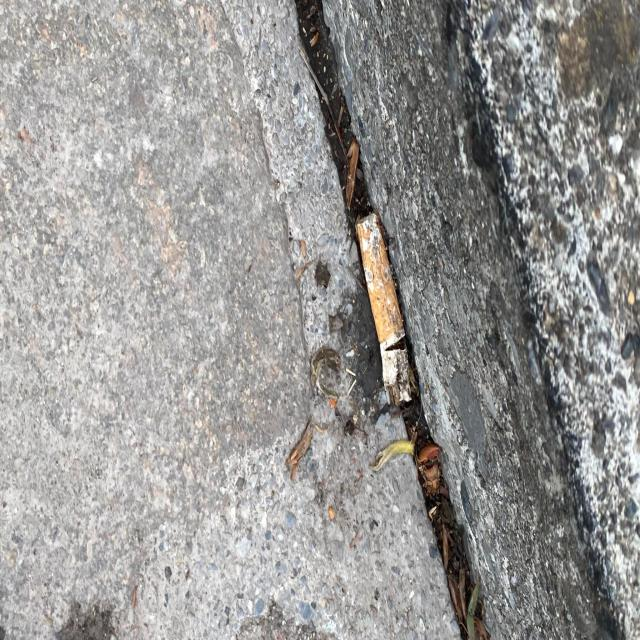other waste: (355, 210, 413, 408)
